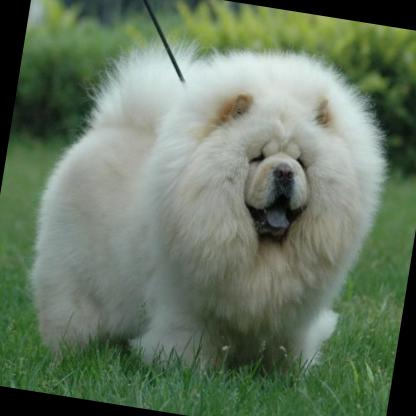Tibetan_mastiff: (13, 10, 406, 407)
